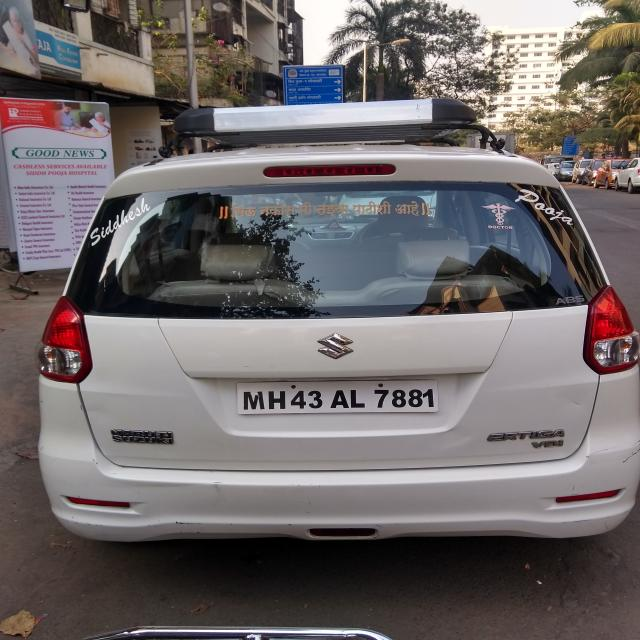Number-Plate: (235, 381, 444, 417)
